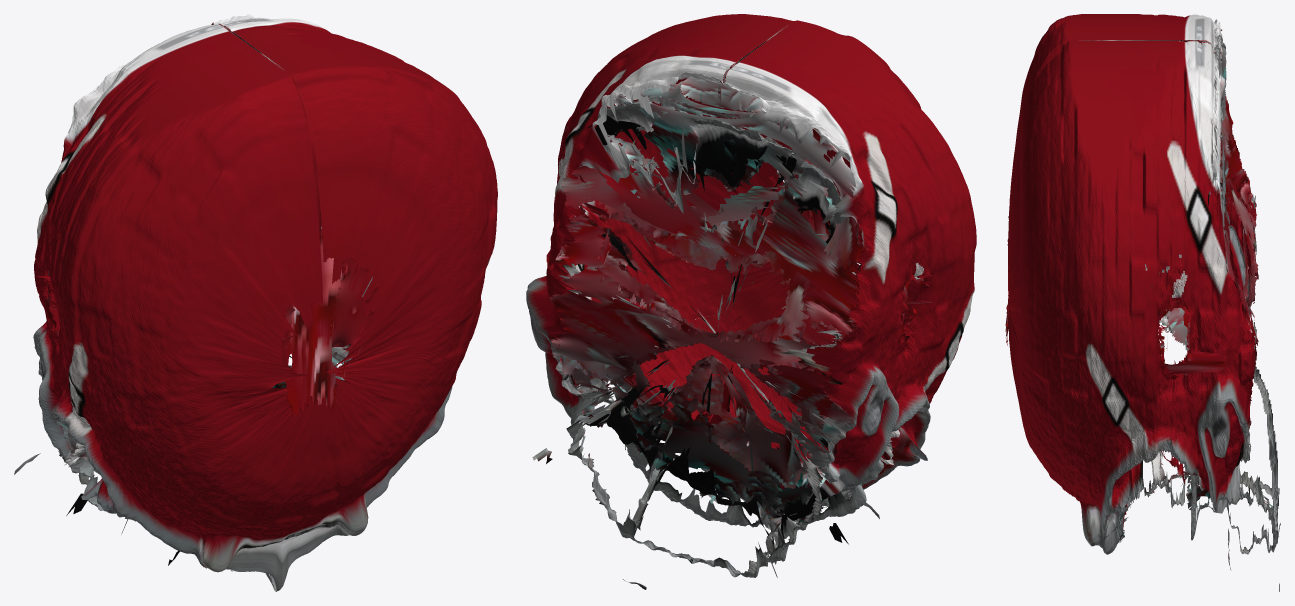
The model's file is mesh_inpaint.glb.
3 renders of one model, left to right at view 1: azimuth 30°, elevation 25°; view 2: azimuth 150°, elevation 25°; view 3: azimuth 270°, elevation 25°, orthographic. The views are drawn at different scales.
Parts seen in each view (by area): view 1: ipn, fill; view 2: ipn, fill; view 3: ipn, fill.
Part boxes in pixels (x1,y1,x2,y2): ipn: (14,14,497,591); fill: (44,124,379,589); ipn: (526,14,976,589); fill: (546,78,929,551); ipn: (1008,14,1280,591); fill: (1005,29,1278,554).
Bounding box in the file's own units: 1.65 × 1.98 × 0.9457.
Materials: 2 (1 with a texture image).
